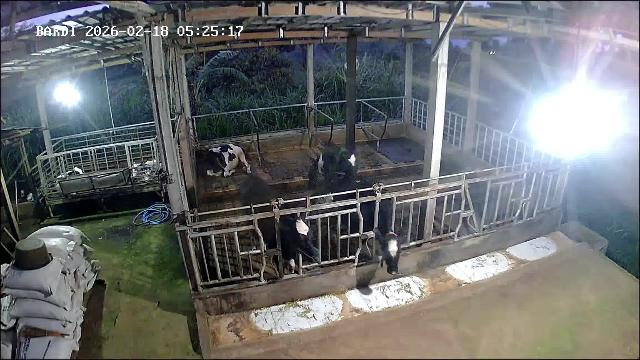mounting: (304, 141, 357, 227)
